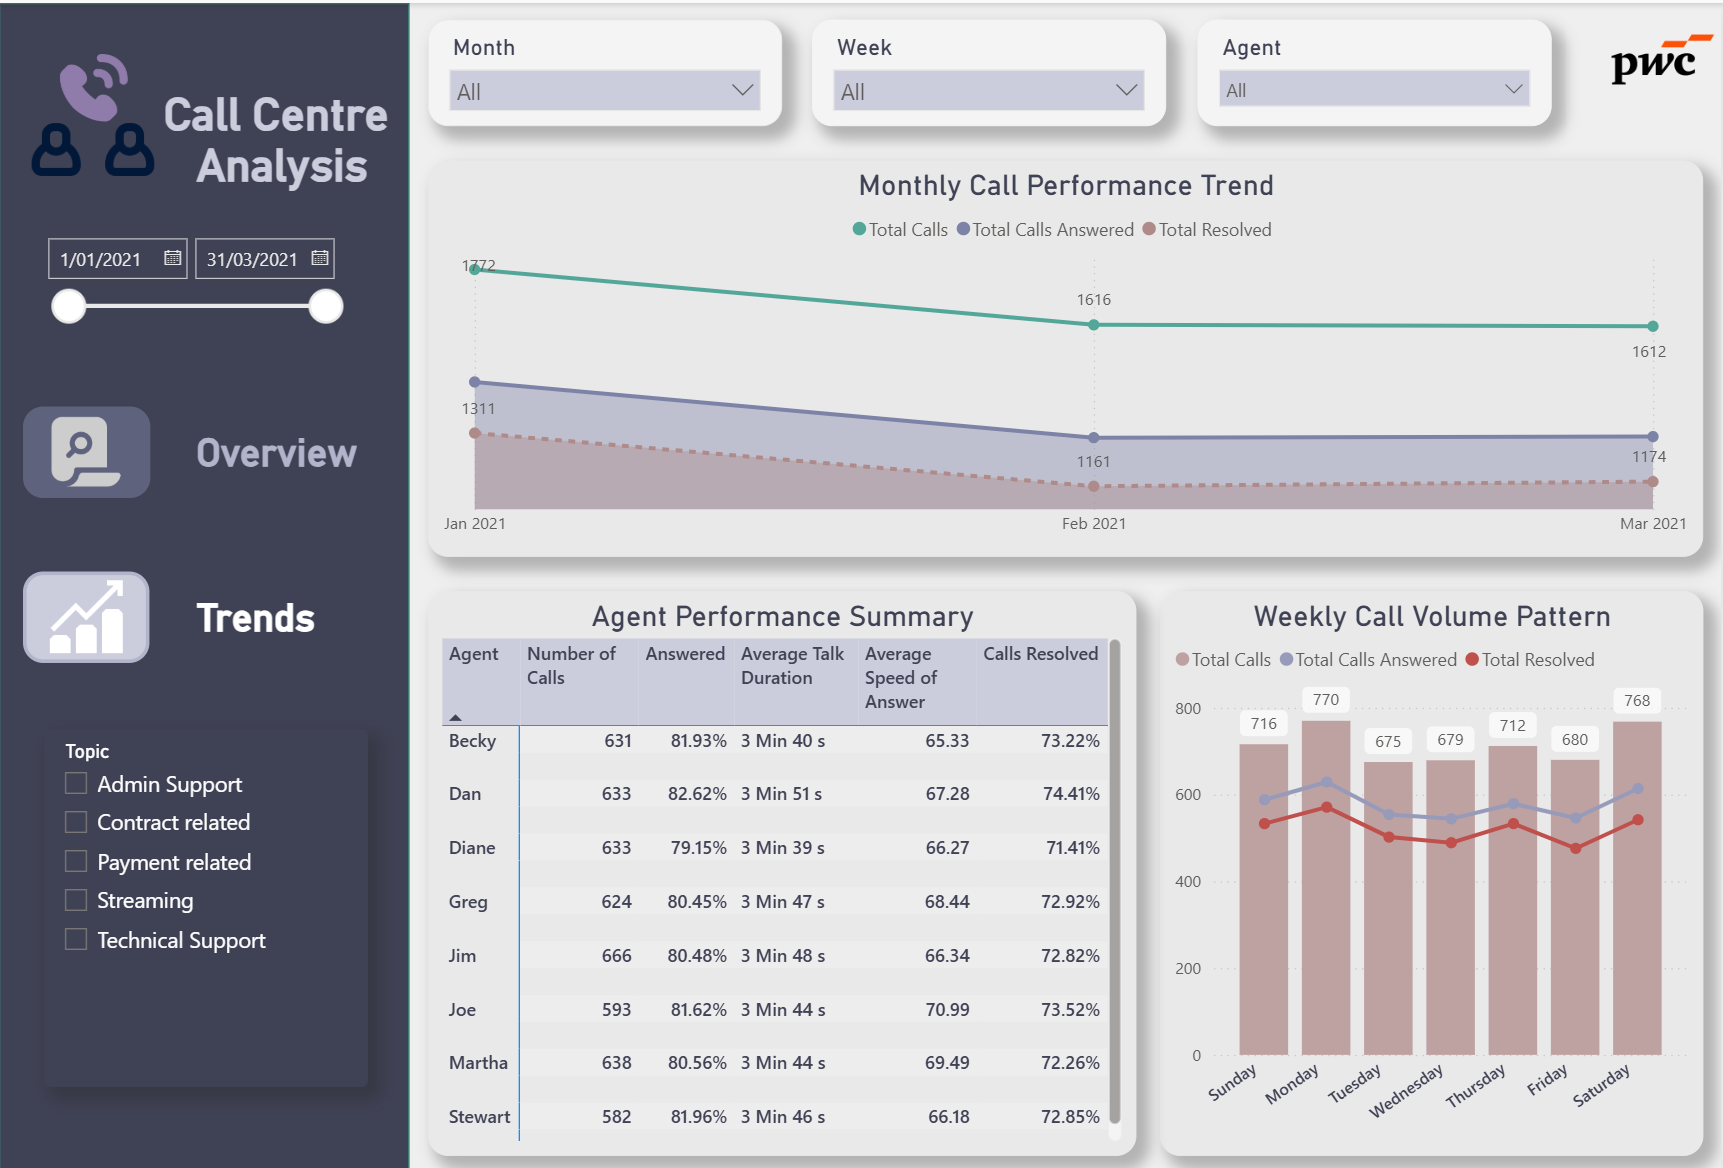

This screenshot's page, from the dashboard's own definition file:
{"tool":"powerbi","page":{"name":"Trends","canvas":[1280,875],"ordinal":2},"visuals":[{"type":"shape","box":[0,0,305,874.8],"z":0},{"type":"image","box":[17.5,299.8,94.8,68.2],"z":1000},{"type":"image","box":[17.5,423,94,68],"z":2000},{"type":"actionButton","box":[142.5,436.3,202.8,39.8],"z":3000},{"type":"actionButton","box":[142.5,313.1,202.8,39.8],"z":4000},{"type":"slicer","fields":{"Values":["Call Center Dataset.Date"]},"box":[22.9,165,240.7,98.7],"z":5000},{"type":"slicer","fields":{"Values":["dim_call.Topic"]},"box":[32.9,539.8,240.7,266.2],"z":6000},{"type":"image","box":[1194.8,0,85.2,83.7],"z":7000},{"type":"image","box":[20.9,12,97.2,142.1],"z":8000},{"type":"textbox","box":[59.8,58.3,300.6,110.7],"z":9000},{"type":"lineChart","title":"Monthly Call Performance Trend","fields":{"Category":["Dim Date.Date.Variation.Date Hierarchy.Year","Dim Date.Date.Variation.Date Hierarchy.Quarter","Dim Date.Date.Variation.Date Hierarchy.Month","Dim Date.Date.Variation.Date Hierarchy.Day"],"Y":["MeasuresTable.Total Calls","MeasuresTable.Total Calls Answered","MeasuresTable.Total Resolved"]},"box":[318.5,116.6,948,294.6],"z":10000},{"type":"lineStackedColumnComboChart","title":"Weekly Call Volume Pattern","fields":{"Category":["Dim Date.Day Name"],"Y":["MeasuresTable.Total Calls"],"Y2":["MeasuresTable.Total Calls Answered","MeasuresTable.Total Resolved"]},"box":[862.8,436.6,403.7,420.2],"z":11000},{"type":"pivotTable","title":"Agent Performance Summary","fields":{"Rows":["Call Center Dataset.Agent"],"Values":["Count(Call Center Dataset.Call Id)","MeasuresTable.% Answered","MeasuresTable.Average Talk Duration","MeasuresTable.Avg Speed of Answer","MeasuresTable.Calls Resolved"]},"box":[318.5,436.6,526.4,420.2],"z":12000},{"type":"slicer","fields":{"Values":["Dim Date.Date.Variation.Date Hierarchy.Month"]},"box":[318.5,12,263.2,79.3],"z":13000},{"type":"slicer","fields":{"Values":["Call Center Dataset.Week"]},"box":[604.9,12,263.2,79.3],"z":14000},{"type":"slicer","fields":{"Values":["Call Center Dataset.Agent"]},"box":[891.2,12,263.2,79.3],"z":15000}]}

Visuals, with their boxes in screenshot pixels (x1, y1, x2, y2), scaled from the page's 1280x875 canvas onto the 1723x1168 screenshot:
shape: rect(0, 0, 411, 1167)
image: rect(24, 400, 151, 491)
image: rect(24, 565, 150, 655)
actionButton: rect(192, 582, 465, 636)
actionButton: rect(192, 418, 465, 471)
slicer - Call Center Dataset.Date: rect(31, 220, 355, 352)
slicer - dim_call.Topic: rect(44, 721, 368, 1076)
image: rect(1608, 0, 1722, 112)
image: rect(28, 16, 159, 206)
textbox: rect(80, 78, 485, 226)
"Monthly Call Performance Trend" lineChart: rect(429, 156, 1705, 549)
"Weekly Call Volume Pattern" lineStackedColumnComboChart: rect(1161, 583, 1705, 1144)
"Agent Performance Summary" pivotTable: rect(429, 583, 1137, 1144)
slicer - Dim Date.Date.Variation.Date Hierarchy.Month: rect(429, 16, 783, 122)
slicer - Call Center Dataset.Week: rect(814, 16, 1169, 122)
slicer - Call Center Dataset.Agent: rect(1200, 16, 1554, 122)
